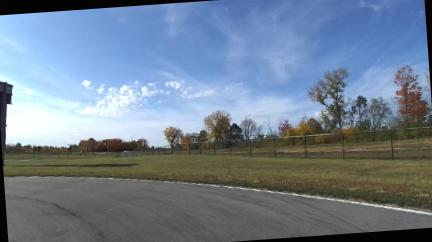Grass: (3, 155, 431, 210)
Lane: (4, 177, 431, 241)
